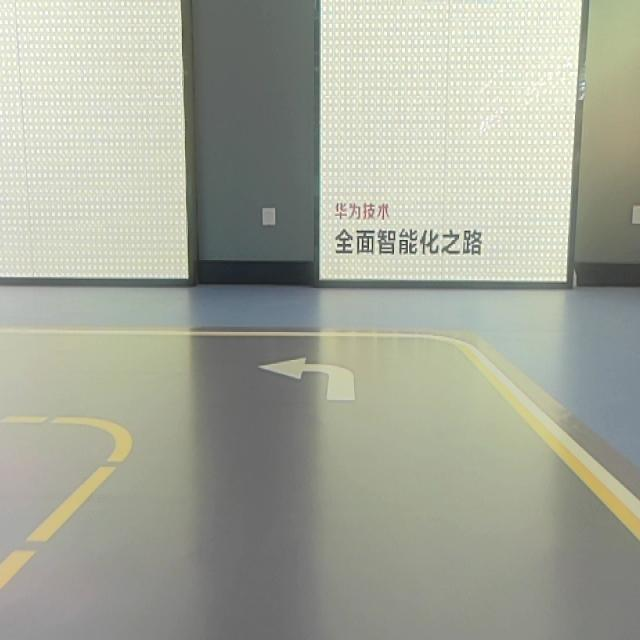left_lane: (0, 436, 129, 591)
right_lane: (468, 355, 640, 546)
